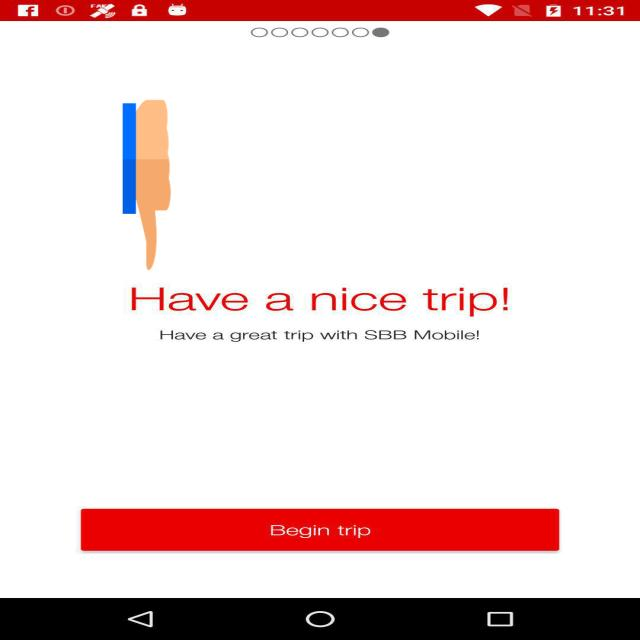obstruction: (122, 96, 170, 274)
